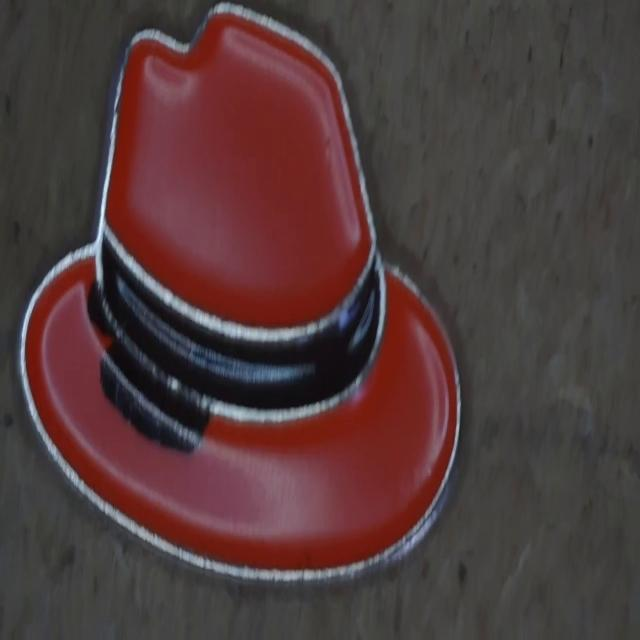Hatband: (102, 229, 384, 409)
Paint_Leak: (89, 284, 210, 451)
RedHatPin: (20, 4, 460, 579)
